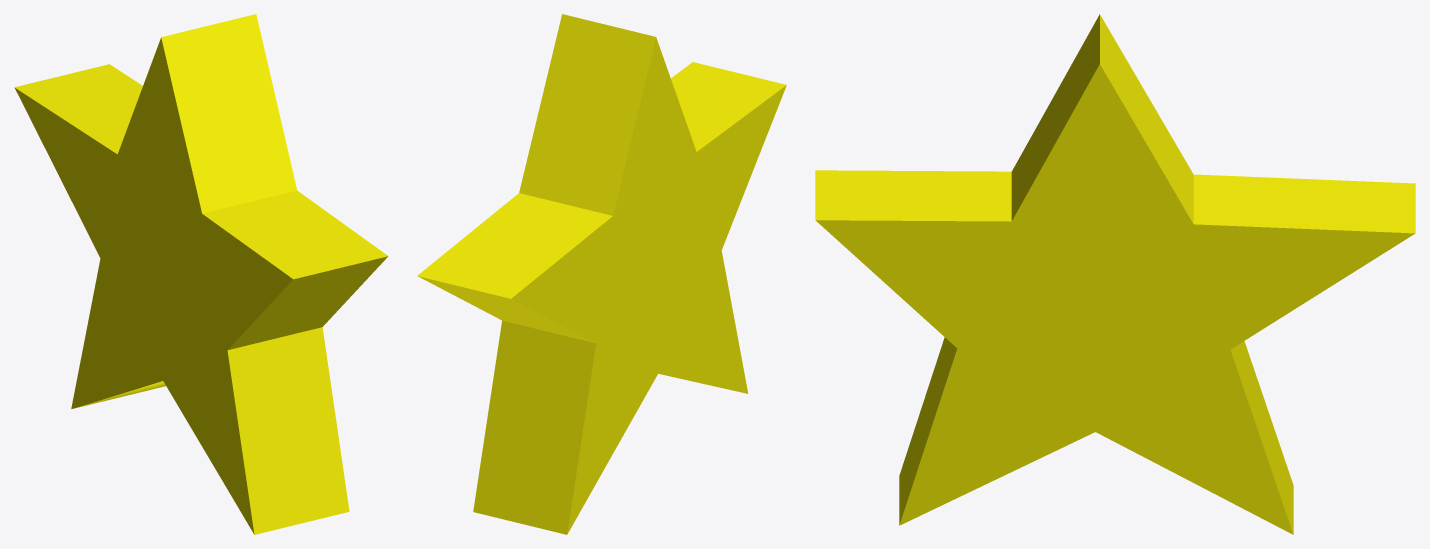
File: star.fbx
The picture shows the model from 3 angles, left to right: view 1: azimuth 30°, elevation 25°; view 2: azimuth 150°, elevation 25°; view 3: azimuth 270°, elevation 25°; orthographic projection. The views are drawn at different scales.
Visible parts, largest first — view 1: pCube1; view 2: pCube1; view 3: pCube1.
Boxes of the visible parts, x1=… form: pCube1: x1=14, y1=14, x2=388, y2=534; pCube1: x1=417, y1=14, x2=786, y2=534; pCube1: x1=815, y1=14, x2=1415, y2=534.
Size of the model in its own units: 0.6967 by 3.07 by 3.54.
